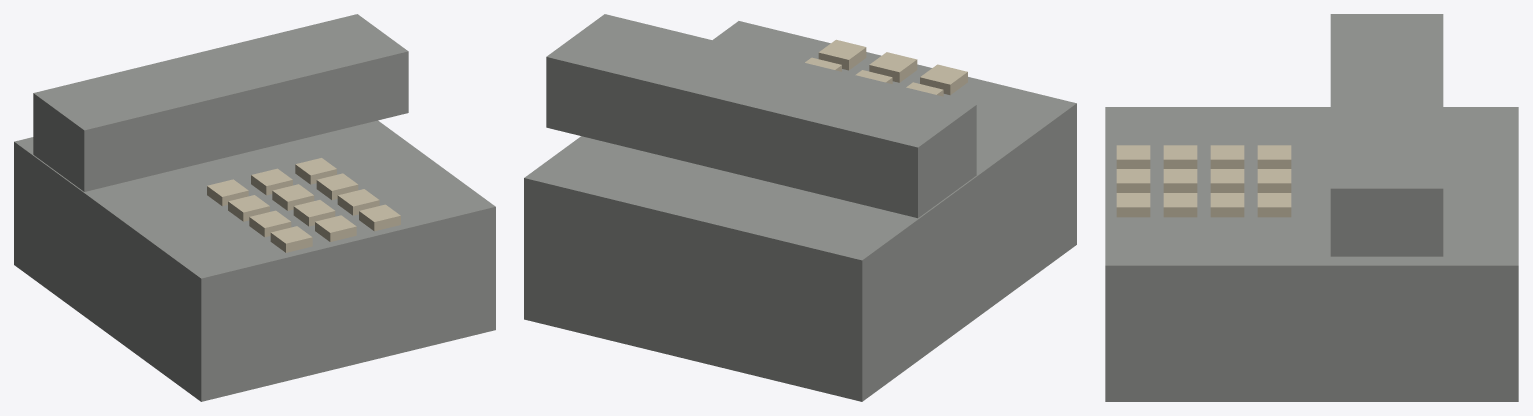
Rendered from phone-multiline.glb.
3 renders of one model, left to right at view 1: azimuth 30°, elevation 25°; view 2: azimuth 150°, elevation 25°; view 3: azimuth 270°, elevation 25°, orthographic. The views are drawn at different scales.
Visible parts, largest first — view 1: kit-phone-multiline; view 2: kit-phone-multiline; view 3: kit-phone-multiline.
Part boxes in pixels (x1,y1,x2,y2): kit-phone-multiline: (14, 14, 495, 401); kit-phone-multiline: (524, 14, 1076, 401); kit-phone-multiline: (1105, 14, 1518, 401).
Size of the model in its own units: 0.22 by 0.13 by 0.22.
